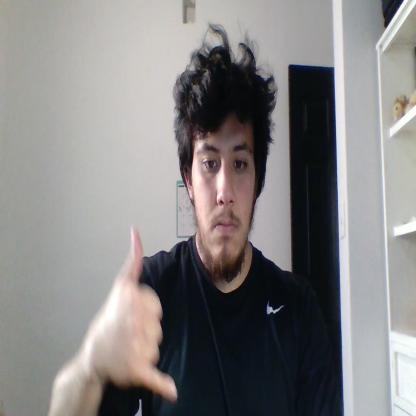Y: (97, 227, 177, 400)
